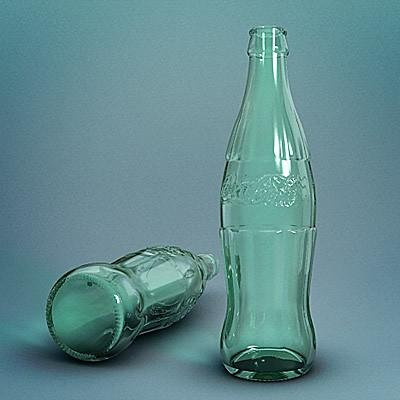bottle: (219, 25, 318, 383), (45, 245, 220, 363)
